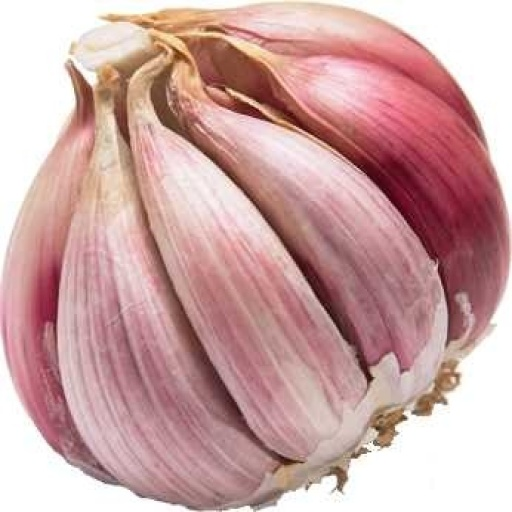Knoblauch: (1, 1, 512, 512)
